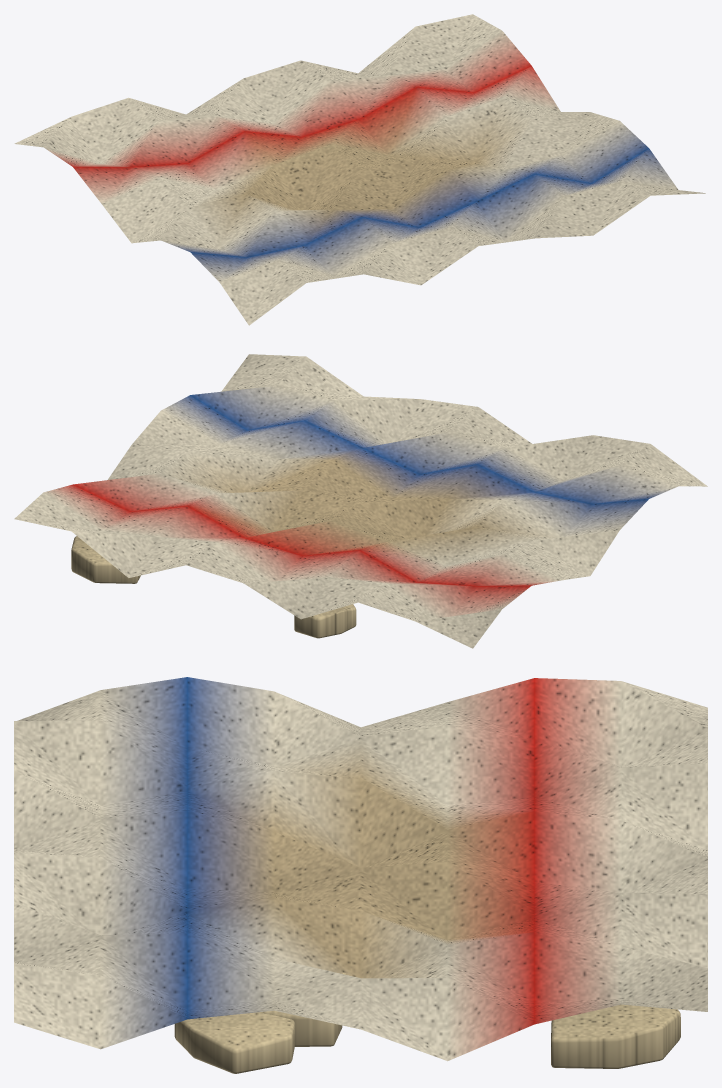
File: food-15-full.glb
3 views of the same model, one above another, from view 1: azimuth 30°, elevation 25°; view 2: azimuth 150°, elevation 25°; view 3: azimuth 270°, elevation 25° (orthographic). The views are drawn at different scales.
Parts seen in each view (by area): view 1: Food; view 2: Food; view 3: Food.
Boxes of the visible parts, left/top/right/bottom form: Food: left=14, top=14, right=705, bottom=325; Food: left=14, top=354, right=707, bottom=648; Food: left=14, top=677, right=707, bottom=1073.
Bounding box in the file's own units: 0.62 × 0.0765 × 0.55.
1 material, 1 textured.
